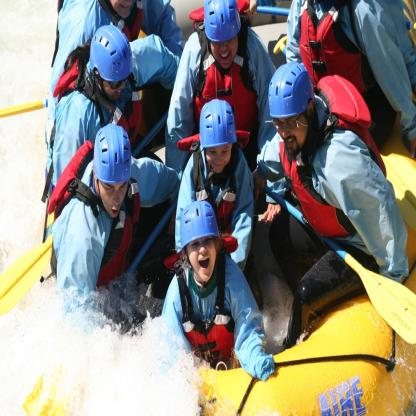Helmet: (269, 60, 318, 152), (182, 198, 220, 298), (86, 25, 132, 93), (94, 124, 134, 194), (198, 98, 235, 150), (204, 0, 244, 43)
